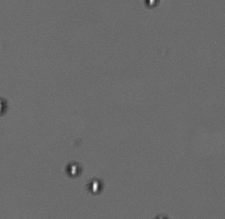Dead Cell: (1, 98, 10, 115)
Living Cell: (65, 161, 81, 176), (88, 177, 102, 194), (143, 1, 159, 9)
